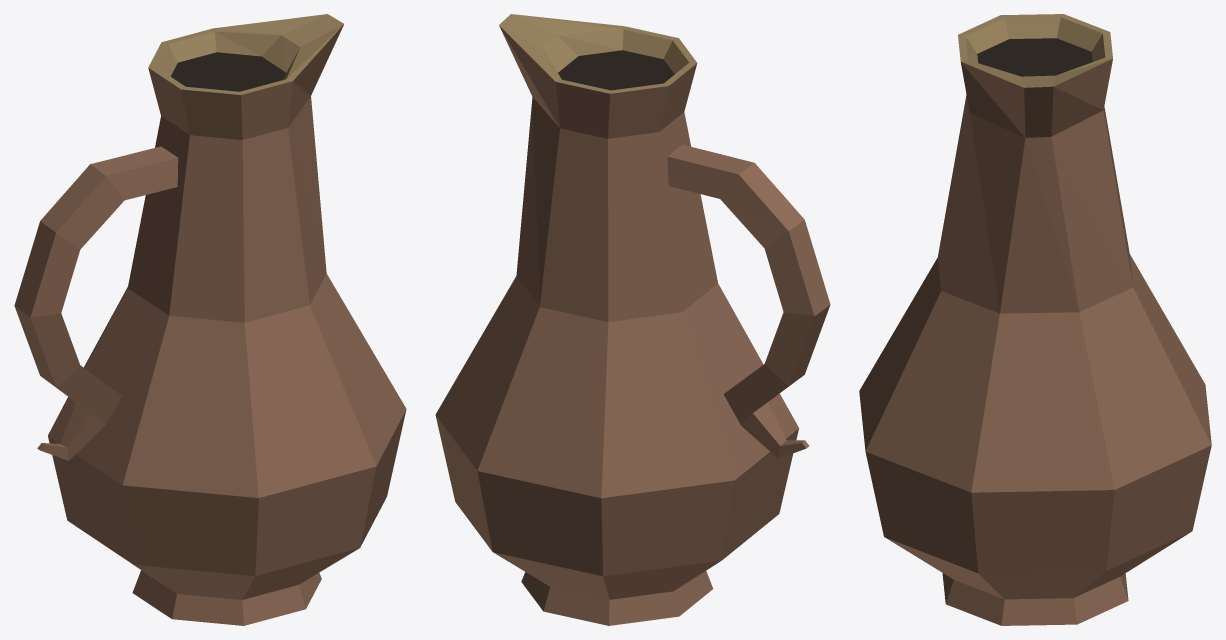
File: Jug_2.fbx
3 renders of one model, left to right at view 1: azimuth 30°, elevation 25°; view 2: azimuth 150°, elevation 25°; view 3: azimuth 270°, elevation 25°, orthographic. The views are drawn at different scales.
Parts seen in each view (by area): view 1: polySurface1516; view 2: polySurface1516; view 3: polySurface1516.
Part boxes in pixels (x1,y1,x2,y2): polySurface1516: (14,14,406,625); polySurface1516: (435,14,830,625); polySurface1516: (859,14,1211,625).
Size of the model in its own units: 28.06 by 40.93 by 23.57.
